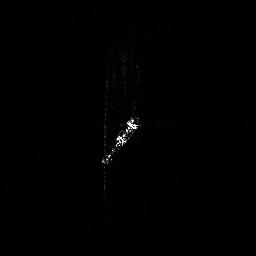ship: (97, 111, 144, 168)
